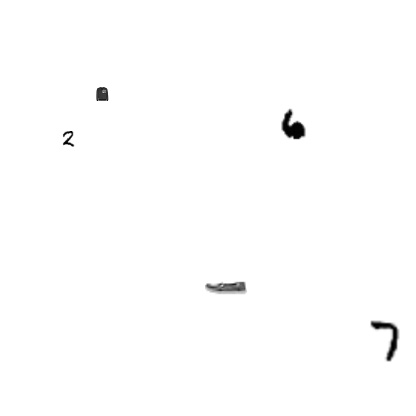2: (57, 127, 79, 149)
6: (271, 106, 313, 148)
7: (359, 307, 415, 363)
Pullover: (95, 87, 109, 101)
Sneaker: (205, 267, 247, 309)
